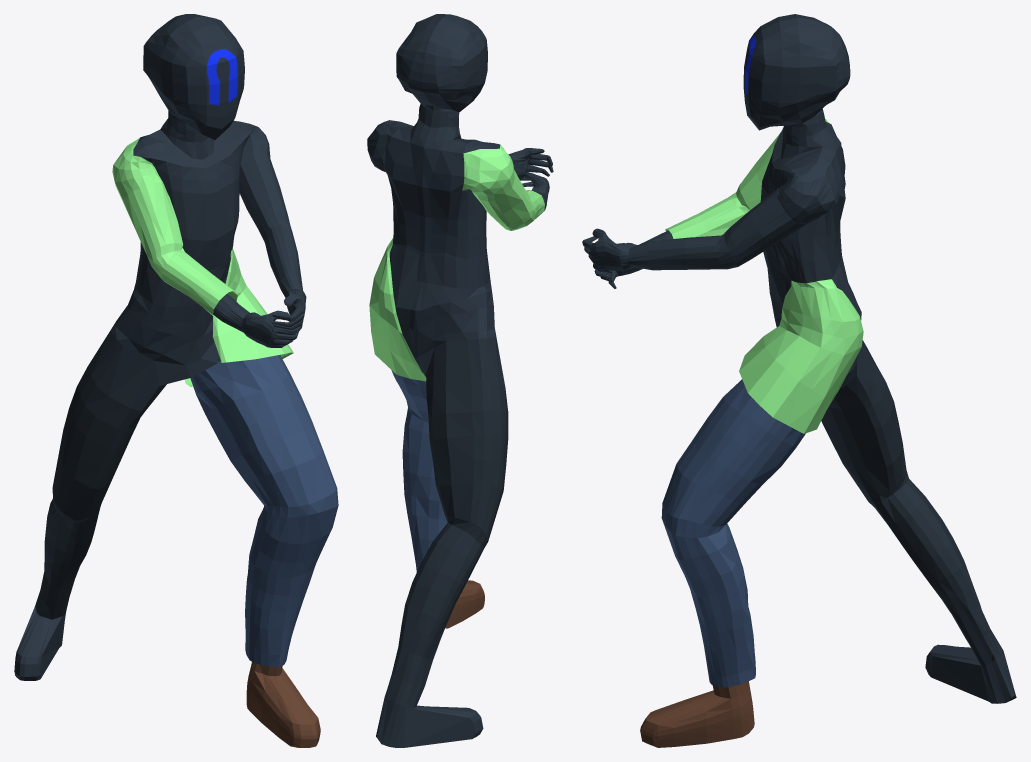
The model's file is Mar_WR_000030.obj.
3 views of the same model, side by side, from view 1: azimuth 30°, elevation 25°; view 2: azimuth 150°, elevation 25°; view 3: azimuth 270°, elevation 25° (orthographic). The views are drawn at different scales.
Visible parts, largest first — view 1: Cube.000_Cube.001; view 2: Cube.000_Cube.001; view 3: Cube.000_Cube.001.
Boxes of the visible parts, x1,y1,x2,y2 form: Cube.000_Cube.001: (14,14,338,747); Cube.000_Cube.001: (367,14,553,747); Cube.000_Cube.001: (582,14,1016,747).
Bounding box in the file's own units: 1.11 × 3.71 × 2.07.
